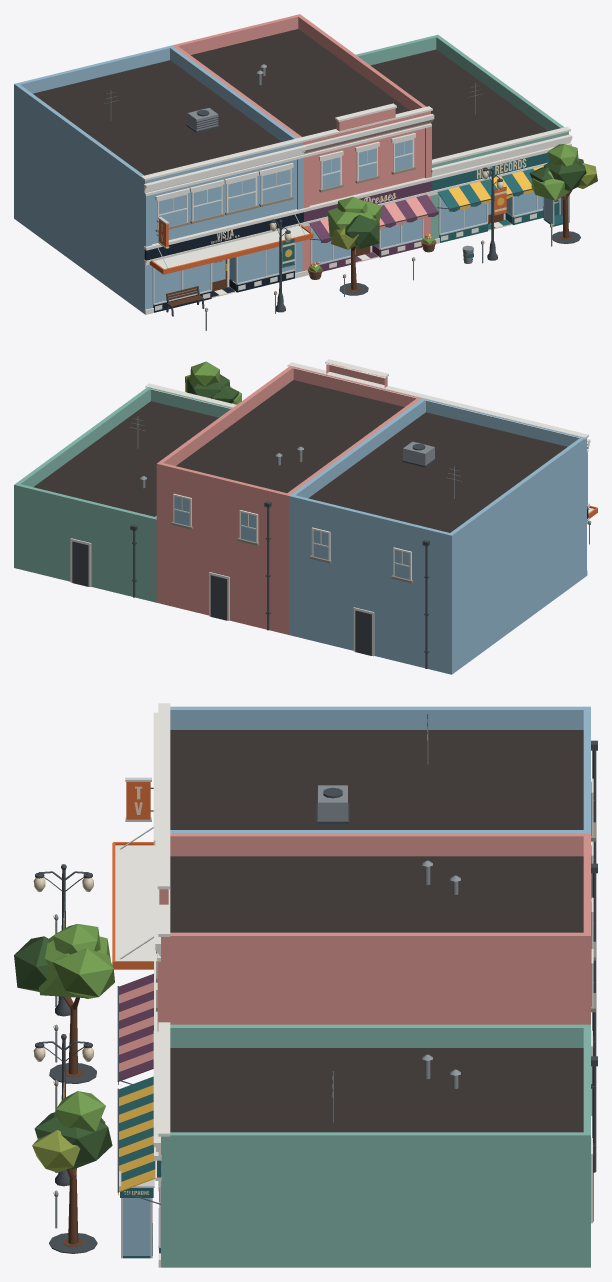
Rendered from Lobby_BlockVista.fbx.
3 renders of one model, top to bottom at view 1: azimuth 30°, elevation 25°; view 2: azimuth 150°, elevation 25°; view 3: azimuth 270°, elevation 25°, orthographic. The views are drawn at different scales.
Visible parts, largest first — view 1: Decor, DecorGlassSkyblue, DecorGlassSkyblue__, Decor_; view 2: Decor, DecorGlassSkyblue__; view 3: Decor, DecorGlassSkyblue___.
Boxes of the visible parts, <box> form: Decor: <box>14,14,597,330</box>; DecorGlassSkyblue: <box>154,191,543,303</box>; DecorGlassSkyblue__: <box>159,139,412,226</box>; Decor_: <box>321,189,533,243</box>; Decor: <box>14,359,597,674</box>; DecorGlassSkyblue__: <box>174,496,409,579</box>; Decor: <box>14,703,597,1267</box>; DecorGlassSkyblue___: <box>123,1198,150,1255</box>.
Bounding box in the file's own units: 86.4 × 29.76 × 62.49.
